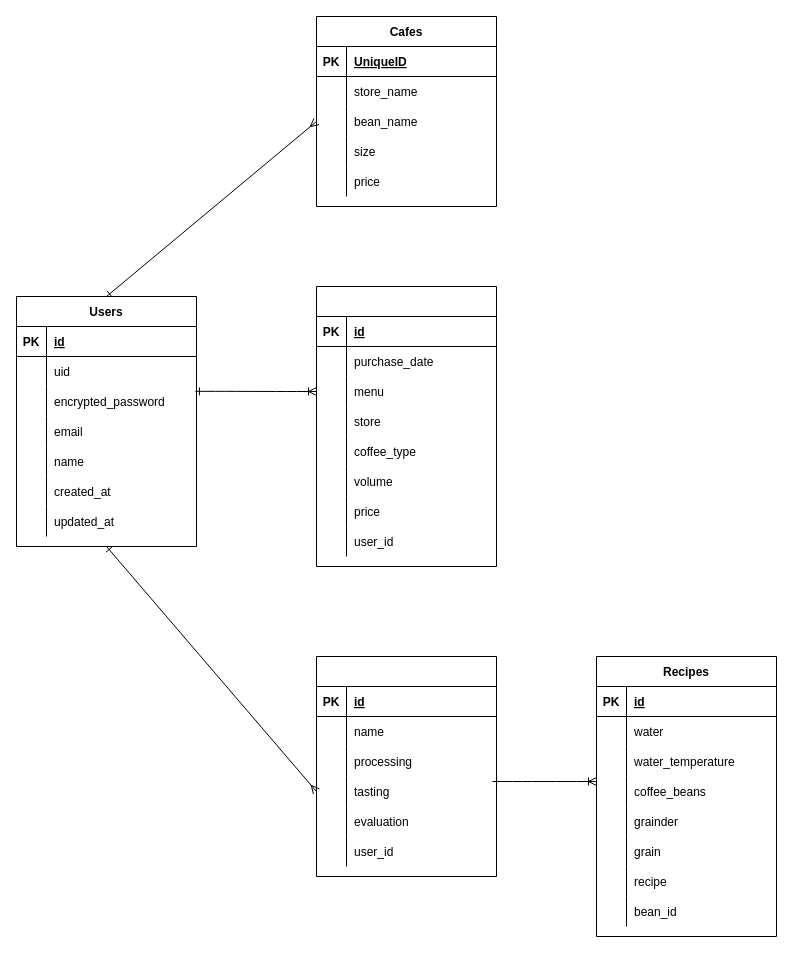
Some shapes in this 793 by 953 pixel diagram are drawn without their labels. Each missing label, with the box of its shape:
Beans: (316, 656, 496, 876)
Purchases: (316, 286, 496, 566)
